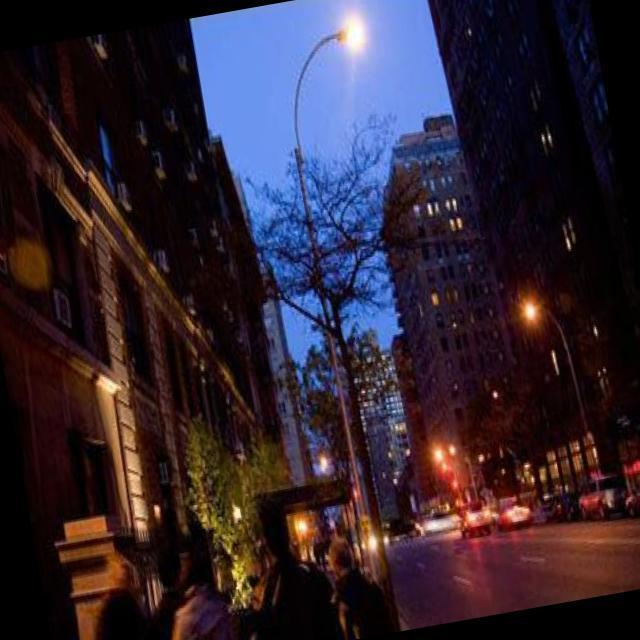on: (452, 260, 592, 364), (410, 426, 502, 506), (332, 10, 410, 98), (278, 506, 340, 576)
